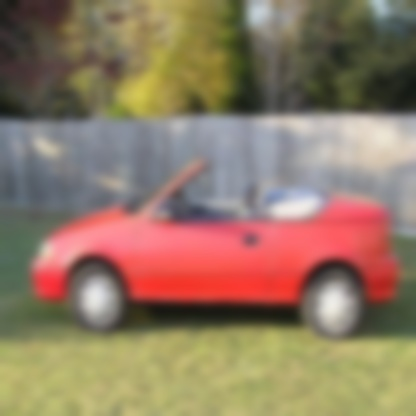Vehicle: (29, 152, 398, 342)
